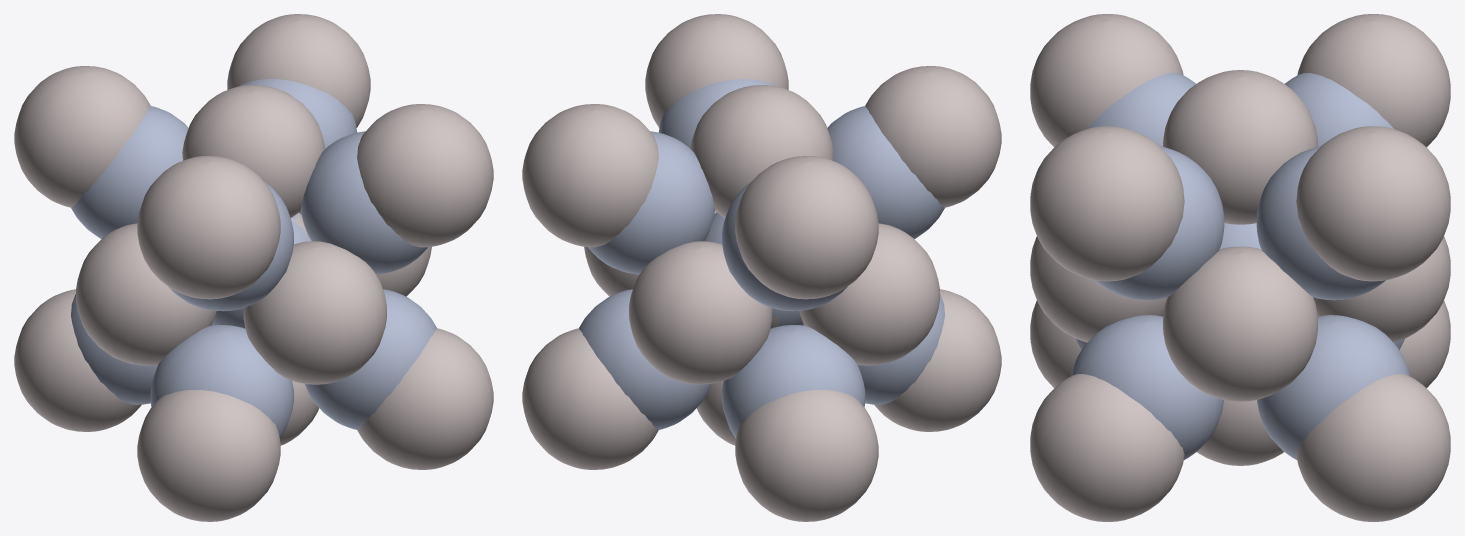
Rendered from Al_fcc.fbx.
3 renders of one model, left to right at view 1: azimuth 30°, elevation 25°; view 2: azimuth 150°, elevation 25°; view 3: azimuth 270°, elevation 25°, orthographic. The views are drawn at different scales.
Parts seen in each view (by area): view 1: Aluminium|Ball (NURBS)_Aluminium|Dupli|1.0.0.0.0.0.0.0.0, Aluminium|Ball (NURBS)_Aluminium|Dupli|0.0.0.0.0.0.0.0.0, Aluminium|Ball (NURBS)_Aluminium|Dupli|5.0.0.0.0.0.0.0.0, Aluminium|Ball (NURBS)_Aluminium|Dupli|10.0.0.0.0.0.0.0.0, Aluminium|Ball (NURBS)_Aluminium|Dupli|3.0.0.0.0.0.0.0.0, Aluminium|Ball (NURBS)_Aluminium|Dupli|4.0.0.0.0.0.0.0.0, Aluminium|Ball (NURBS)_Aluminium|Dupli|8.0.0.0.0.0.0.0.0, Aluminium|Ball (NURBS)_Aluminium|Dupli|13.0.0.0.0.0.0.0.0, Aluminium|Ball (NURBS)_Aluminium|Dupli|2.0.0.0.0.0.0.0.0, Aluminium|Ball (NURBS)_Aluminium|Dupli|7.0.0.0.0.0.0.0.0, Chromium|Ball (NURBS)_Chromium|Dupli|5.0.0.0.0.0.0.0.0, Chromium|Ball (NURBS)_Chromium|Dupli|0.0.0.0.0.0.0.0.0 (+7 smaller); view 2: Aluminium|Ball (NURBS)_Aluminium|Dupli|3.0.0.0.0.0.0.0.0, Aluminium|Ball (NURBS)_Aluminium|Dupli|2.0.0.0.0.0.0.0.0, Aluminium|Ball (NURBS)_Aluminium|Dupli|7.0.0.0.0.0.0.0.0, Aluminium|Ball (NURBS)_Aluminium|Dupli|11.0.0.0.0.0.0.0.0, Aluminium|Ball (NURBS)_Aluminium|Dupli|1.0.0.0.0.0.0.0.0, Aluminium|Ball (NURBS)_Aluminium|Dupli|6.0.0.0.0.0.0.0.0, Aluminium|Ball (NURBS)_Aluminium|Dupli|8.0.0.0.0.0.0.0.0, Aluminium|Ball (NURBS)_Aluminium|Dupli|13.0.0.0.0.0.0.0.0, Aluminium|Ball (NURBS)_Aluminium|Dupli|0.0.0.0.0.0.0.0.0, Aluminium|Ball (NURBS)_Aluminium|Dupli|5.0.0.0.0.0.0.0.0, Chromium|Ball (NURBS)_Chromium|Dupli|7.0.0.0.0.0.0.0.0, Chromium|Ball (NURBS)_Chromium|Dupli|2.0.0.0.0.0.0.0.0 (+7 smaller); view 3: Aluminium|Ball (NURBS)_Aluminium|Dupli|7.0.0.0.0.0.0.0.0, Aluminium|Ball (NURBS)_Aluminium|Dupli|5.0.0.0.0.0.0.0.0, Aluminium|Ball (NURBS)_Aluminium|Dupli|9.0.0.0.0.0.0.0.0, Aluminium|Ball (NURBS)_Aluminium|Dupli|6.0.0.0.0.0.0.0.0, Aluminium|Ball (NURBS)_Aluminium|Dupli|4.0.0.0.0.0.0.0.0, Aluminium|Ball (NURBS)_Aluminium|Dupli|13.0.0.0.0.0.0.0.0, Aluminium|Ball (NURBS)_Aluminium|Dupli|3.0.0.0.0.0.0.0.0, Aluminium|Ball (NURBS)_Aluminium|Dupli|1.0.0.0.0.0.0.0.0, Chromium|Ball (NURBS)_Chromium|Dupli|6.0.0.0.0.0.0.0.0, Chromium|Ball (NURBS)_Chromium|Dupli|4.0.0.0.0.0.0.0.0, Chromium|Ball (NURBS)_Chromium|Dupli|7.0.0.0.0.0.0.0.0, Chromium|Ball (NURBS)_Chromium|Dupli|5.0.0.0.0.0.0.0.0 (+8 smaller).
Boxes of the visible parts, x1=… form: Aluminium|Ball (NURBS)_Aluminium|Dupli|1.0.0.0.0.0.0.0.0: x1=137, y1=156, x2=280, y2=299; Aluminium|Ball (NURBS)_Aluminium|Dupli|0.0.0.0.0.0.0.0.0: x1=137, y1=390, x2=280, y2=521; Aluminium|Ball (NURBS)_Aluminium|Dupli|5.0.0.0.0.0.0.0.0: x1=357, y1=104, x2=493, y2=247; Aluminium|Ball (NURBS)_Aluminium|Dupli|10.0.0.0.0.0.0.0.0: x1=243, y1=241, x2=386, y2=384; Aluminium|Ball (NURBS)_Aluminium|Dupli|3.0.0.0.0.0.0.0.0: x1=14, y1=66, x2=150, y2=207; Aluminium|Ball (NURBS)_Aluminium|Dupli|4.0.0.0.0.0.0.0.0: x1=357, y1=328, x2=493, y2=469; Aluminium|Ball (NURBS)_Aluminium|Dupli|8.0.0.0.0.0.0.0.0: x1=76, y1=223, x2=216, y2=365; Aluminium|Ball (NURBS)_Aluminium|Dupli|13.0.0.0.0.0.0.0.0: x1=182, y1=85, x2=325, y2=217; Aluminium|Ball (NURBS)_Aluminium|Dupli|2.0.0.0.0.0.0.0.0: x1=14, y1=289, x2=141, y2=431; Aluminium|Ball (NURBS)_Aluminium|Dupli|7.0.0.0.0.0.0.0.0: x1=227, y1=14, x2=370, y2=127; Chromium|Ball (NURBS)_Chromium|Dupli|5.0.0.0.0.0.0.0.0: x1=300, y1=131, x2=427, y2=274; Chromium|Ball (NURBS)_Chromium|Dupli|0.0.0.0.0.0.0.0.0: x1=150, y1=325, x2=293, y2=438; Aluminium|Ball (NURBS)_Aluminium|Dupli|3.0.0.0.0.0.0.0.0: x1=735, y1=156, x2=878, y2=299; Aluminium|Ball (NURBS)_Aluminium|Dupli|2.0.0.0.0.0.0.0.0: x1=735, y1=390, x2=878, y2=521; Aluminium|Ball (NURBS)_Aluminium|Dupli|7.0.0.0.0.0.0.0.0: x1=522, y1=104, x2=658, y2=247; Aluminium|Ball (NURBS)_Aluminium|Dupli|11.0.0.0.0.0.0.0.0: x1=629, y1=241, x2=772, y2=384; Aluminium|Ball (NURBS)_Aluminium|Dupli|1.0.0.0.0.0.0.0.0: x1=865, y1=66, x2=1001, y2=207; Aluminium|Ball (NURBS)_Aluminium|Dupli|6.0.0.0.0.0.0.0.0: x1=522, y1=328, x2=658, y2=469; Aluminium|Ball (NURBS)_Aluminium|Dupli|8.0.0.0.0.0.0.0.0: x1=799, y1=223, x2=939, y2=365; Aluminium|Ball (NURBS)_Aluminium|Dupli|13.0.0.0.0.0.0.0.0: x1=690, y1=85, x2=833, y2=217; Aluminium|Ball (NURBS)_Aluminium|Dupli|0.0.0.0.0.0.0.0.0: x1=874, y1=289, x2=1001, y2=431; Aluminium|Ball (NURBS)_Aluminium|Dupli|5.0.0.0.0.0.0.0.0: x1=645, y1=14, x2=788, y2=127; Chromium|Ball (NURBS)_Chromium|Dupli|7.0.0.0.0.0.0.0.0: x1=588, y1=131, x2=715, y2=274; Chromium|Ball (NURBS)_Chromium|Dupli|2.0.0.0.0.0.0.0.0: x1=722, y1=325, x2=865, y2=438; Aluminium|Ball (NURBS)_Aluminium|Dupli|7.0.0.0.0.0.0.0.0: x1=1296, y1=126, x2=1450, y2=281; Aluminium|Ball (NURBS)_Aluminium|Dupli|5.0.0.0.0.0.0.0.0: x1=1030, y1=126, x2=1184, y2=281; Aluminium|Ball (NURBS)_Aluminium|Dupli|9.0.0.0.0.0.0.0.0: x1=1163, y1=246, x2=1317, y2=401; Aluminium|Ball (NURBS)_Aluminium|Dupli|6.0.0.0.0.0.0.0.0: x1=1296, y1=374, x2=1450, y2=521; Aluminium|Ball (NURBS)_Aluminium|Dupli|4.0.0.0.0.0.0.0.0: x1=1030, y1=374, x2=1184, y2=521; Aluminium|Ball (NURBS)_Aluminium|Dupli|13.0.0.0.0.0.0.0.0: x1=1163, y1=70, x2=1317, y2=224; Aluminium|Ball (NURBS)_Aluminium|Dupli|3.0.0.0.0.0.0.0.0: x1=1297, y1=14, x2=1450, y2=147; Aluminium|Ball (NURBS)_Aluminium|Dupli|1.0.0.0.0.0.0.0.0: x1=1030, y1=14, x2=1183, y2=147; Chromium|Ball (NURBS)_Chromium|Dupli|6.0.0.0.0.0.0.0.0: x1=1257, y1=315, x2=1409, y2=459; Chromium|Ball (NURBS)_Chromium|Dupli|4.0.0.0.0.0.0.0.0: x1=1071, y1=315, x2=1223, y2=459; Chromium|Ball (NURBS)_Chromium|Dupli|7.0.0.0.0.0.0.0.0: x1=1256, y1=146, x2=1385, y2=300; Chromium|Ball (NURBS)_Chromium|Dupli|5.0.0.0.0.0.0.0.0: x1=1095, y1=146, x2=1224, y2=300.
Size of the model in its own units: 639 by 640 by 639.
